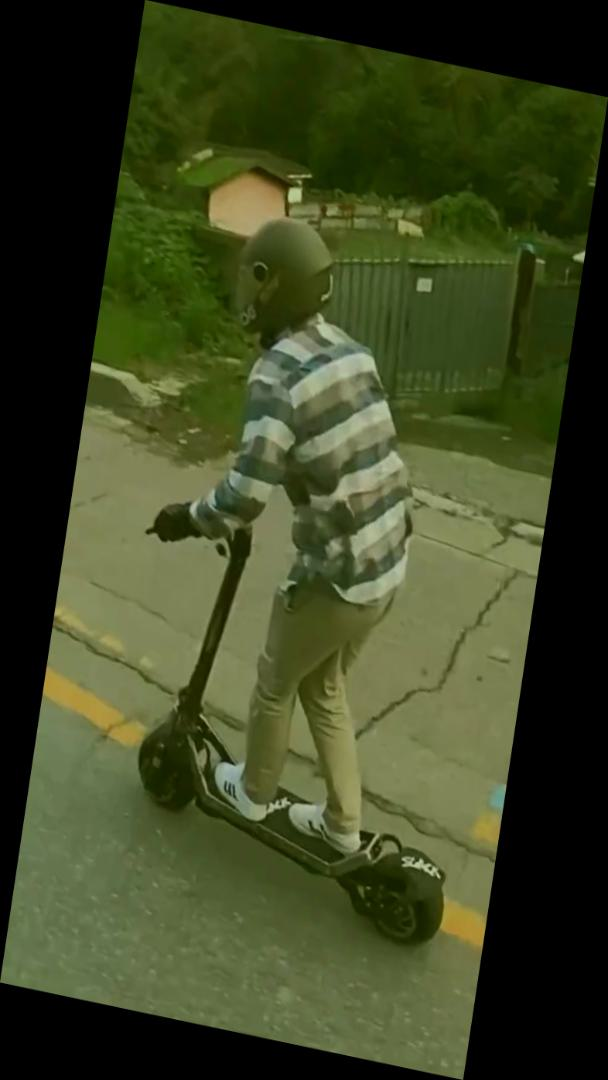helmet: (93, 195, 543, 954)
